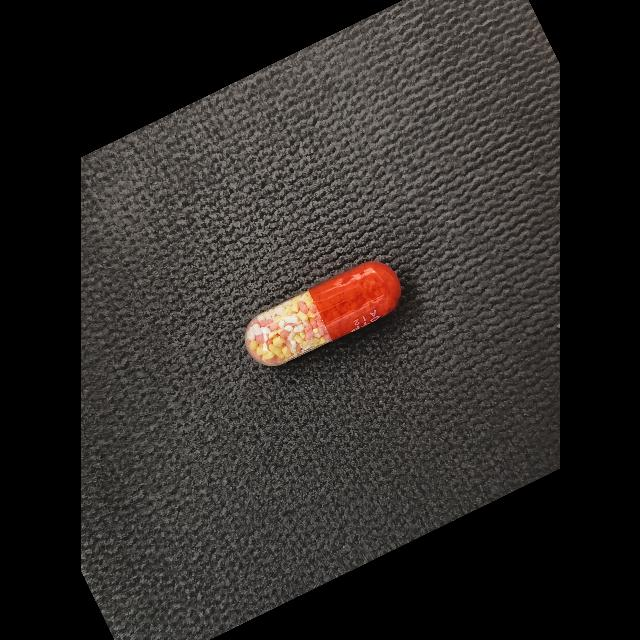Intact Capsule: (244, 261, 401, 366)
